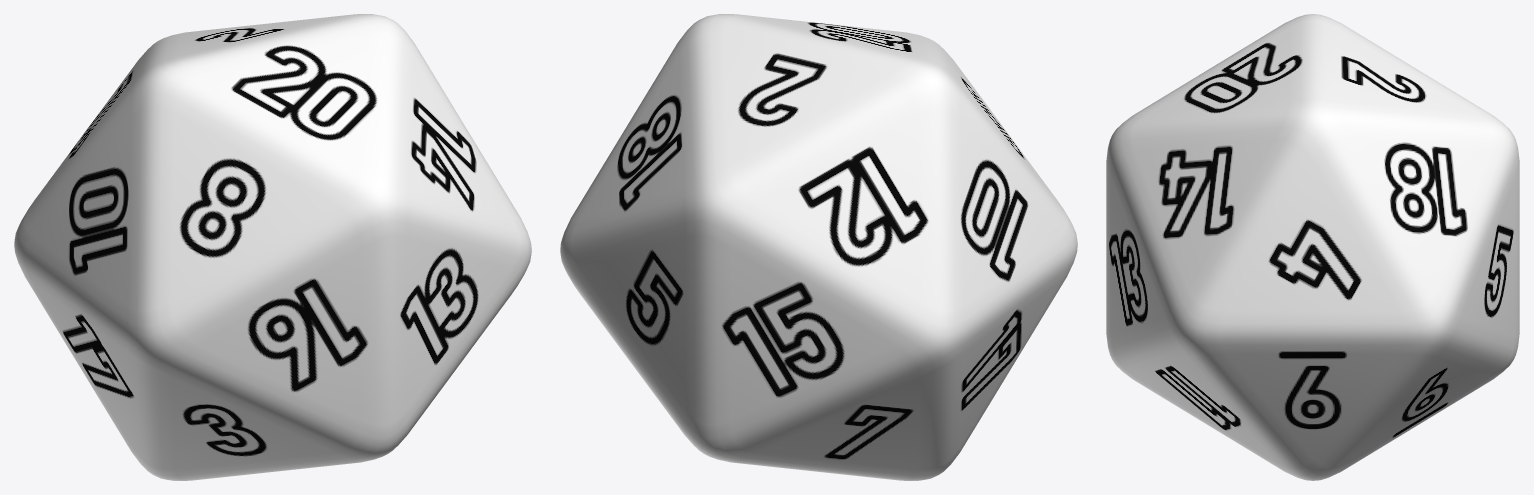
3 renders of one model, left to right at view 1: azimuth 30°, elevation 25°; view 2: azimuth 150°, elevation 25°; view 3: azimuth 270°, elevation 25°, orthographic. The views are drawn at different scales.
Parts seen in each view (by area): view 1: Solid; view 2: Solid; view 3: Solid.
Boxes of the visible parts, box(x1,y1,x2,y2) form: Solid: box(14, 14, 531, 480); Solid: box(560, 14, 1077, 480); Solid: box(1106, 14, 1519, 480).
Size of the model in its own units: 1.65 by 1.65 by 1.65.
1 material, 1 textured.
